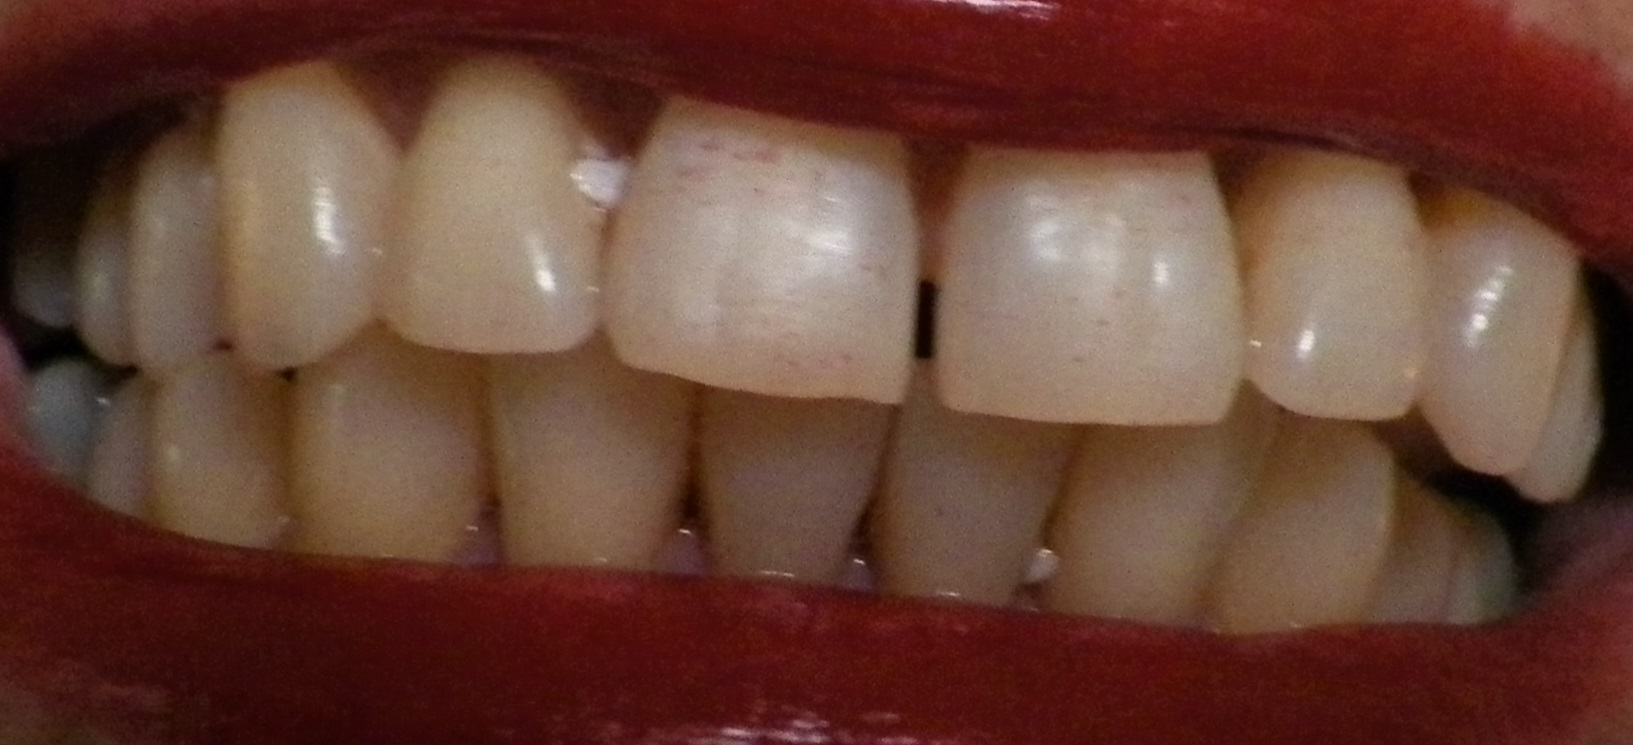boca: (52, 63, 1584, 640)
